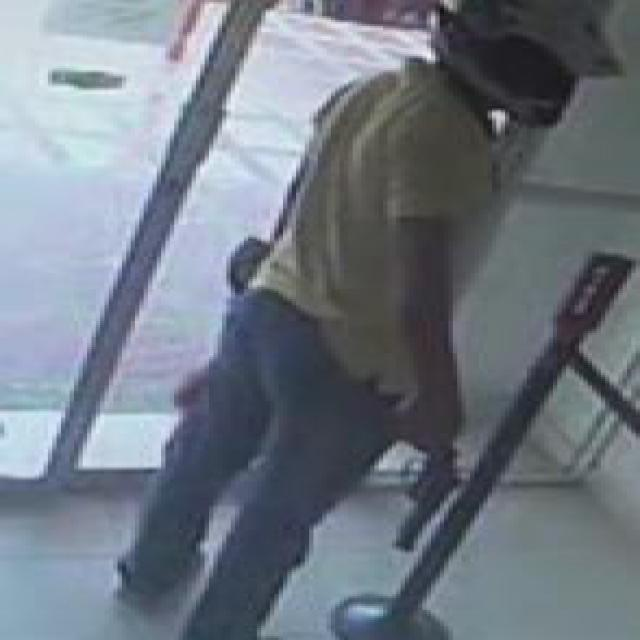gun: (378, 415, 471, 552)
